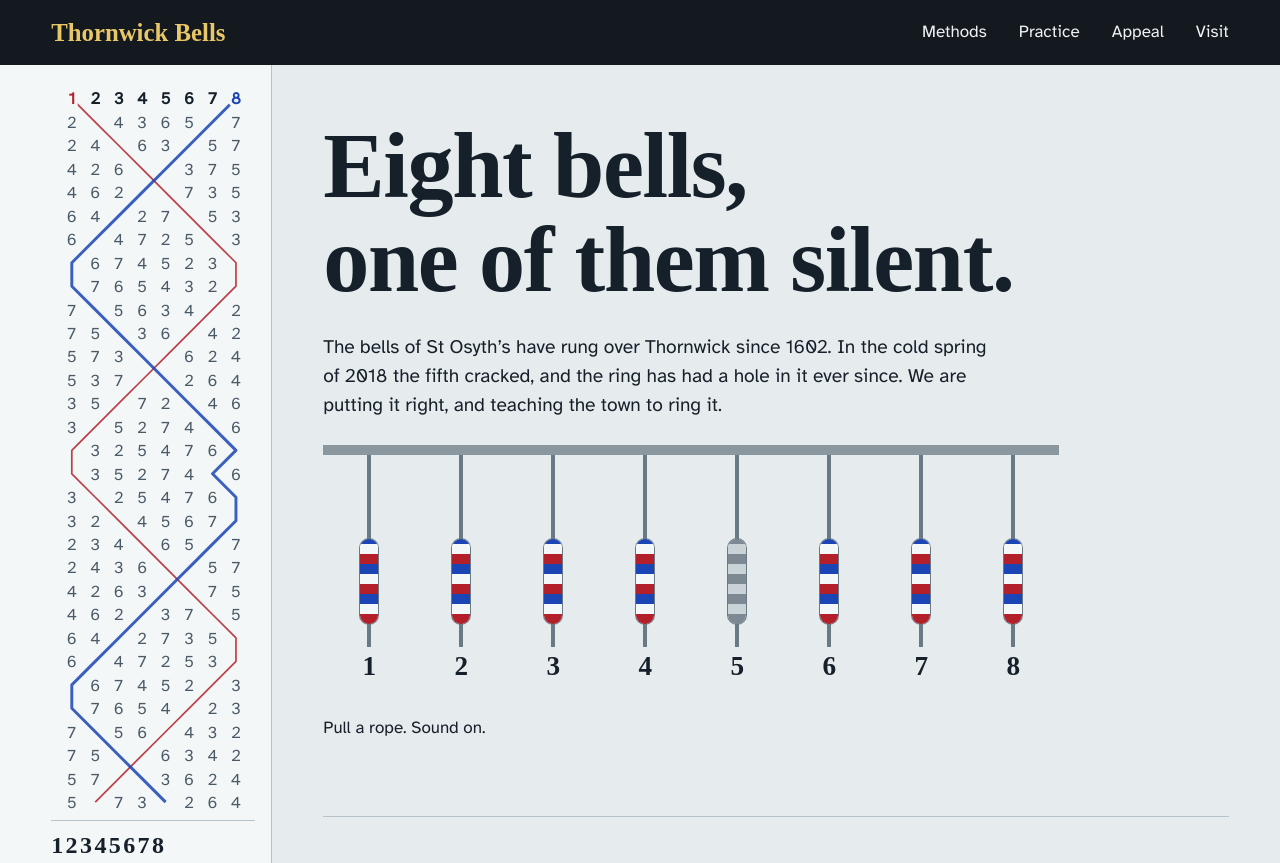
Test: front page › lets you ring a bell and tells you about it
The width and height of the screenshot is (1280, 863).
Click the button named "Ring bell 7, Old Constant". click: (921, 572)
box: [875,455,967,688]
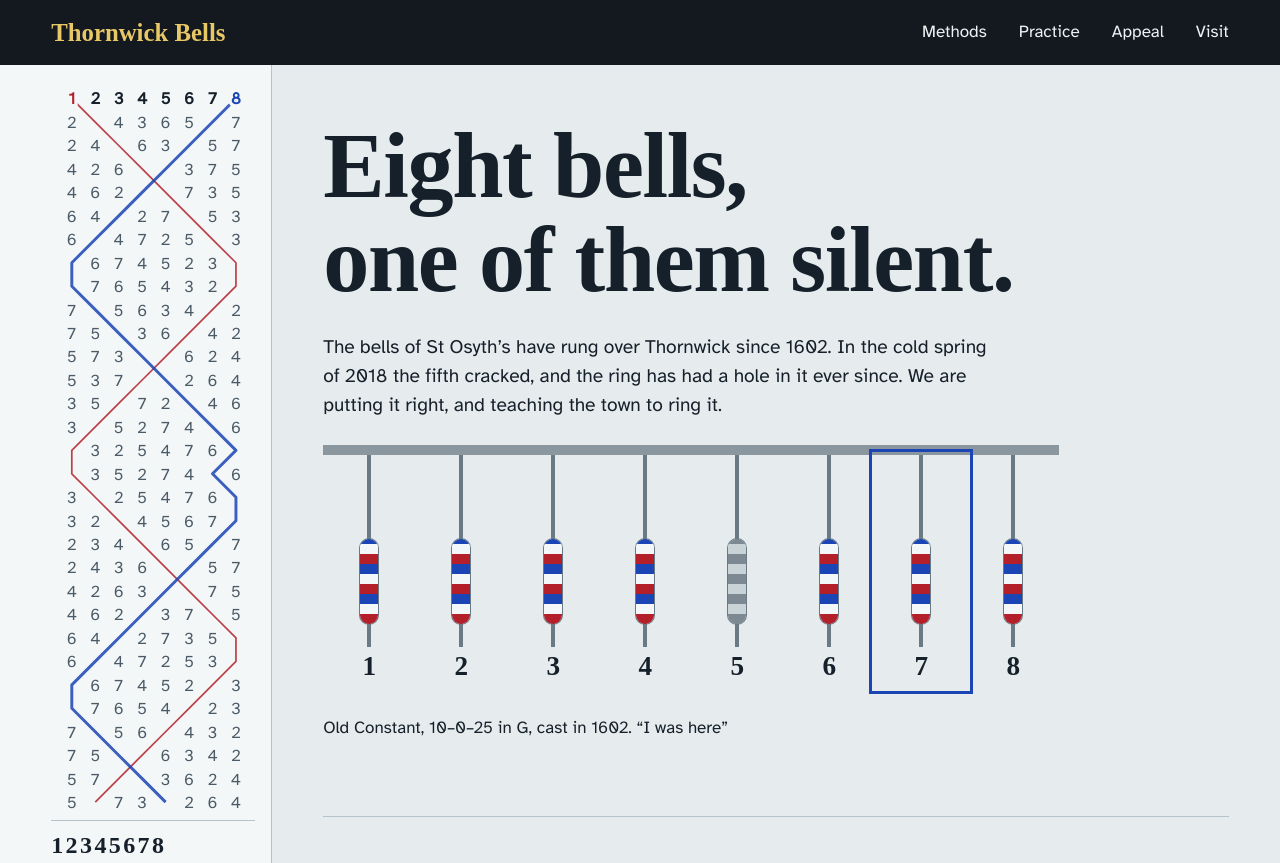
Expected: the text "Old Constant, 10–0–25 in G, cast in 1602. “I was here”" is shown, [323,717,728,738]
